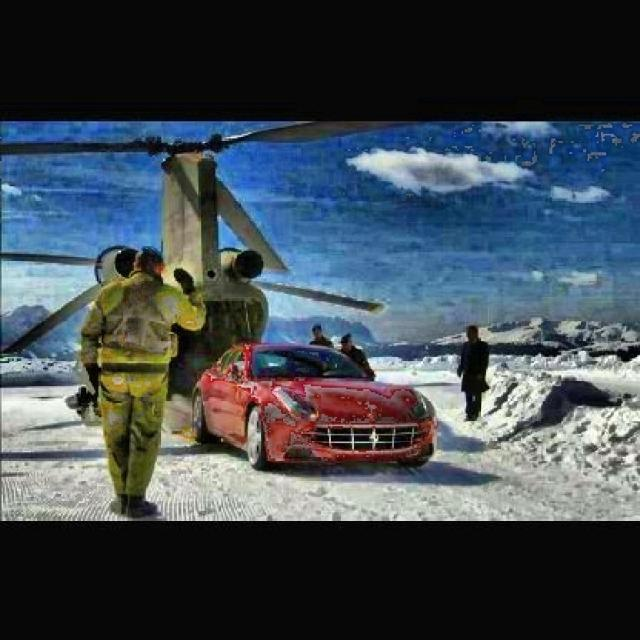maroon: (202, 336, 440, 472)
